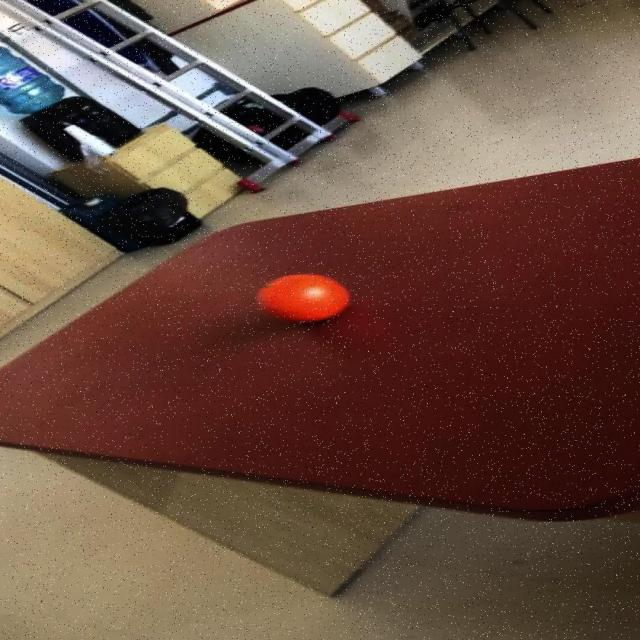Orange: (257, 273, 353, 323)
